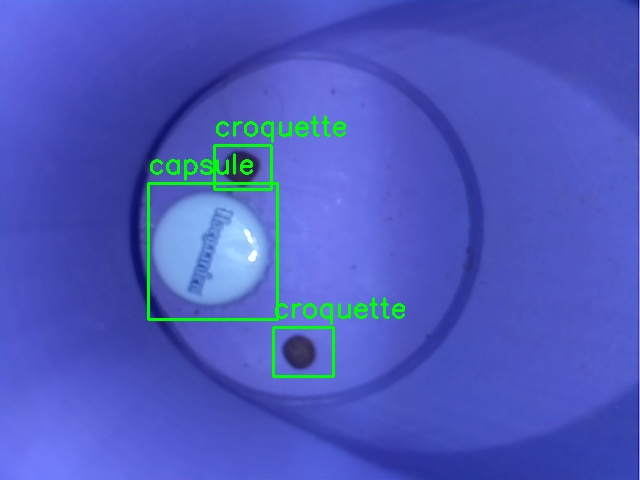capsule: (148, 183, 277, 319)
croquette: (273, 327, 333, 376), (214, 145, 271, 189)
